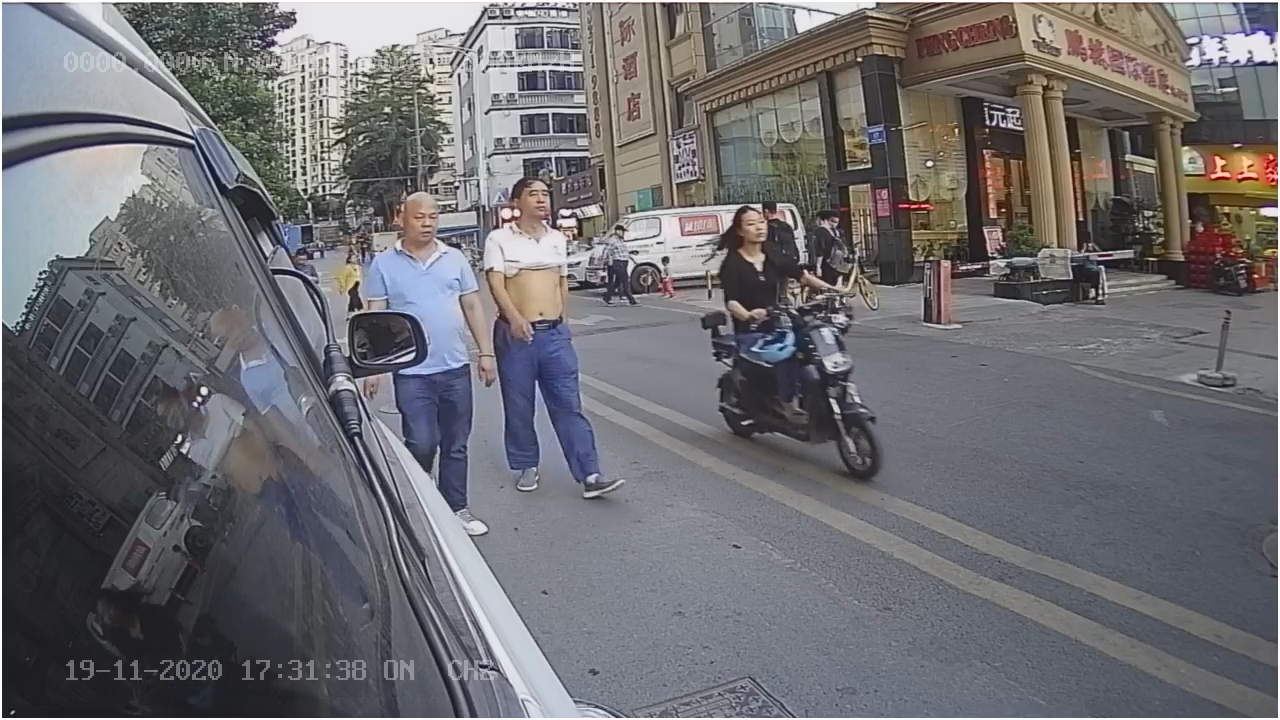person: (488, 178, 598, 490), (708, 207, 820, 299)
